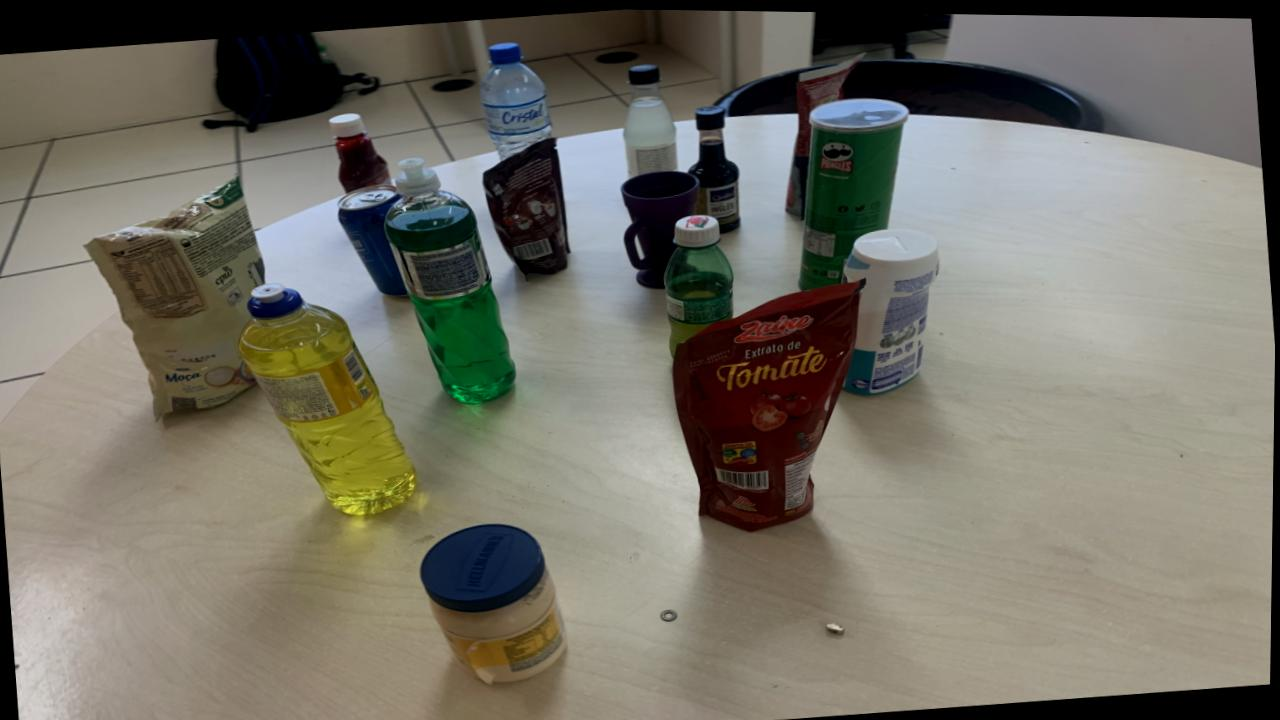Cleaner-Cleanup_Items: (844, 226, 939, 393)
Coffee-Pantry_Items: (483, 137, 569, 273)
Detergent-Cleanup_Items: (238, 282, 417, 514), (384, 158, 516, 401)
English_Sauce-Pantry_Items: (688, 104, 740, 231)
Flakes-Snacks: (85, 176, 266, 417)
Guarana-Drinks: (664, 212, 734, 353)
Ketchup-Pantry_Items: (329, 112, 391, 192)
Mayonnaise-Pantry_Items: (420, 522, 567, 683)
Pringles-Snacks: (799, 95, 908, 287)
Soda-Drinks: (623, 62, 678, 174)
Tomato_Sauce-Pantry_Items: (673, 279, 863, 528), (786, 51, 863, 214)
Tonic-Drinks: (338, 183, 407, 295)
Water_Bottle-Drinks: (479, 40, 552, 158)
